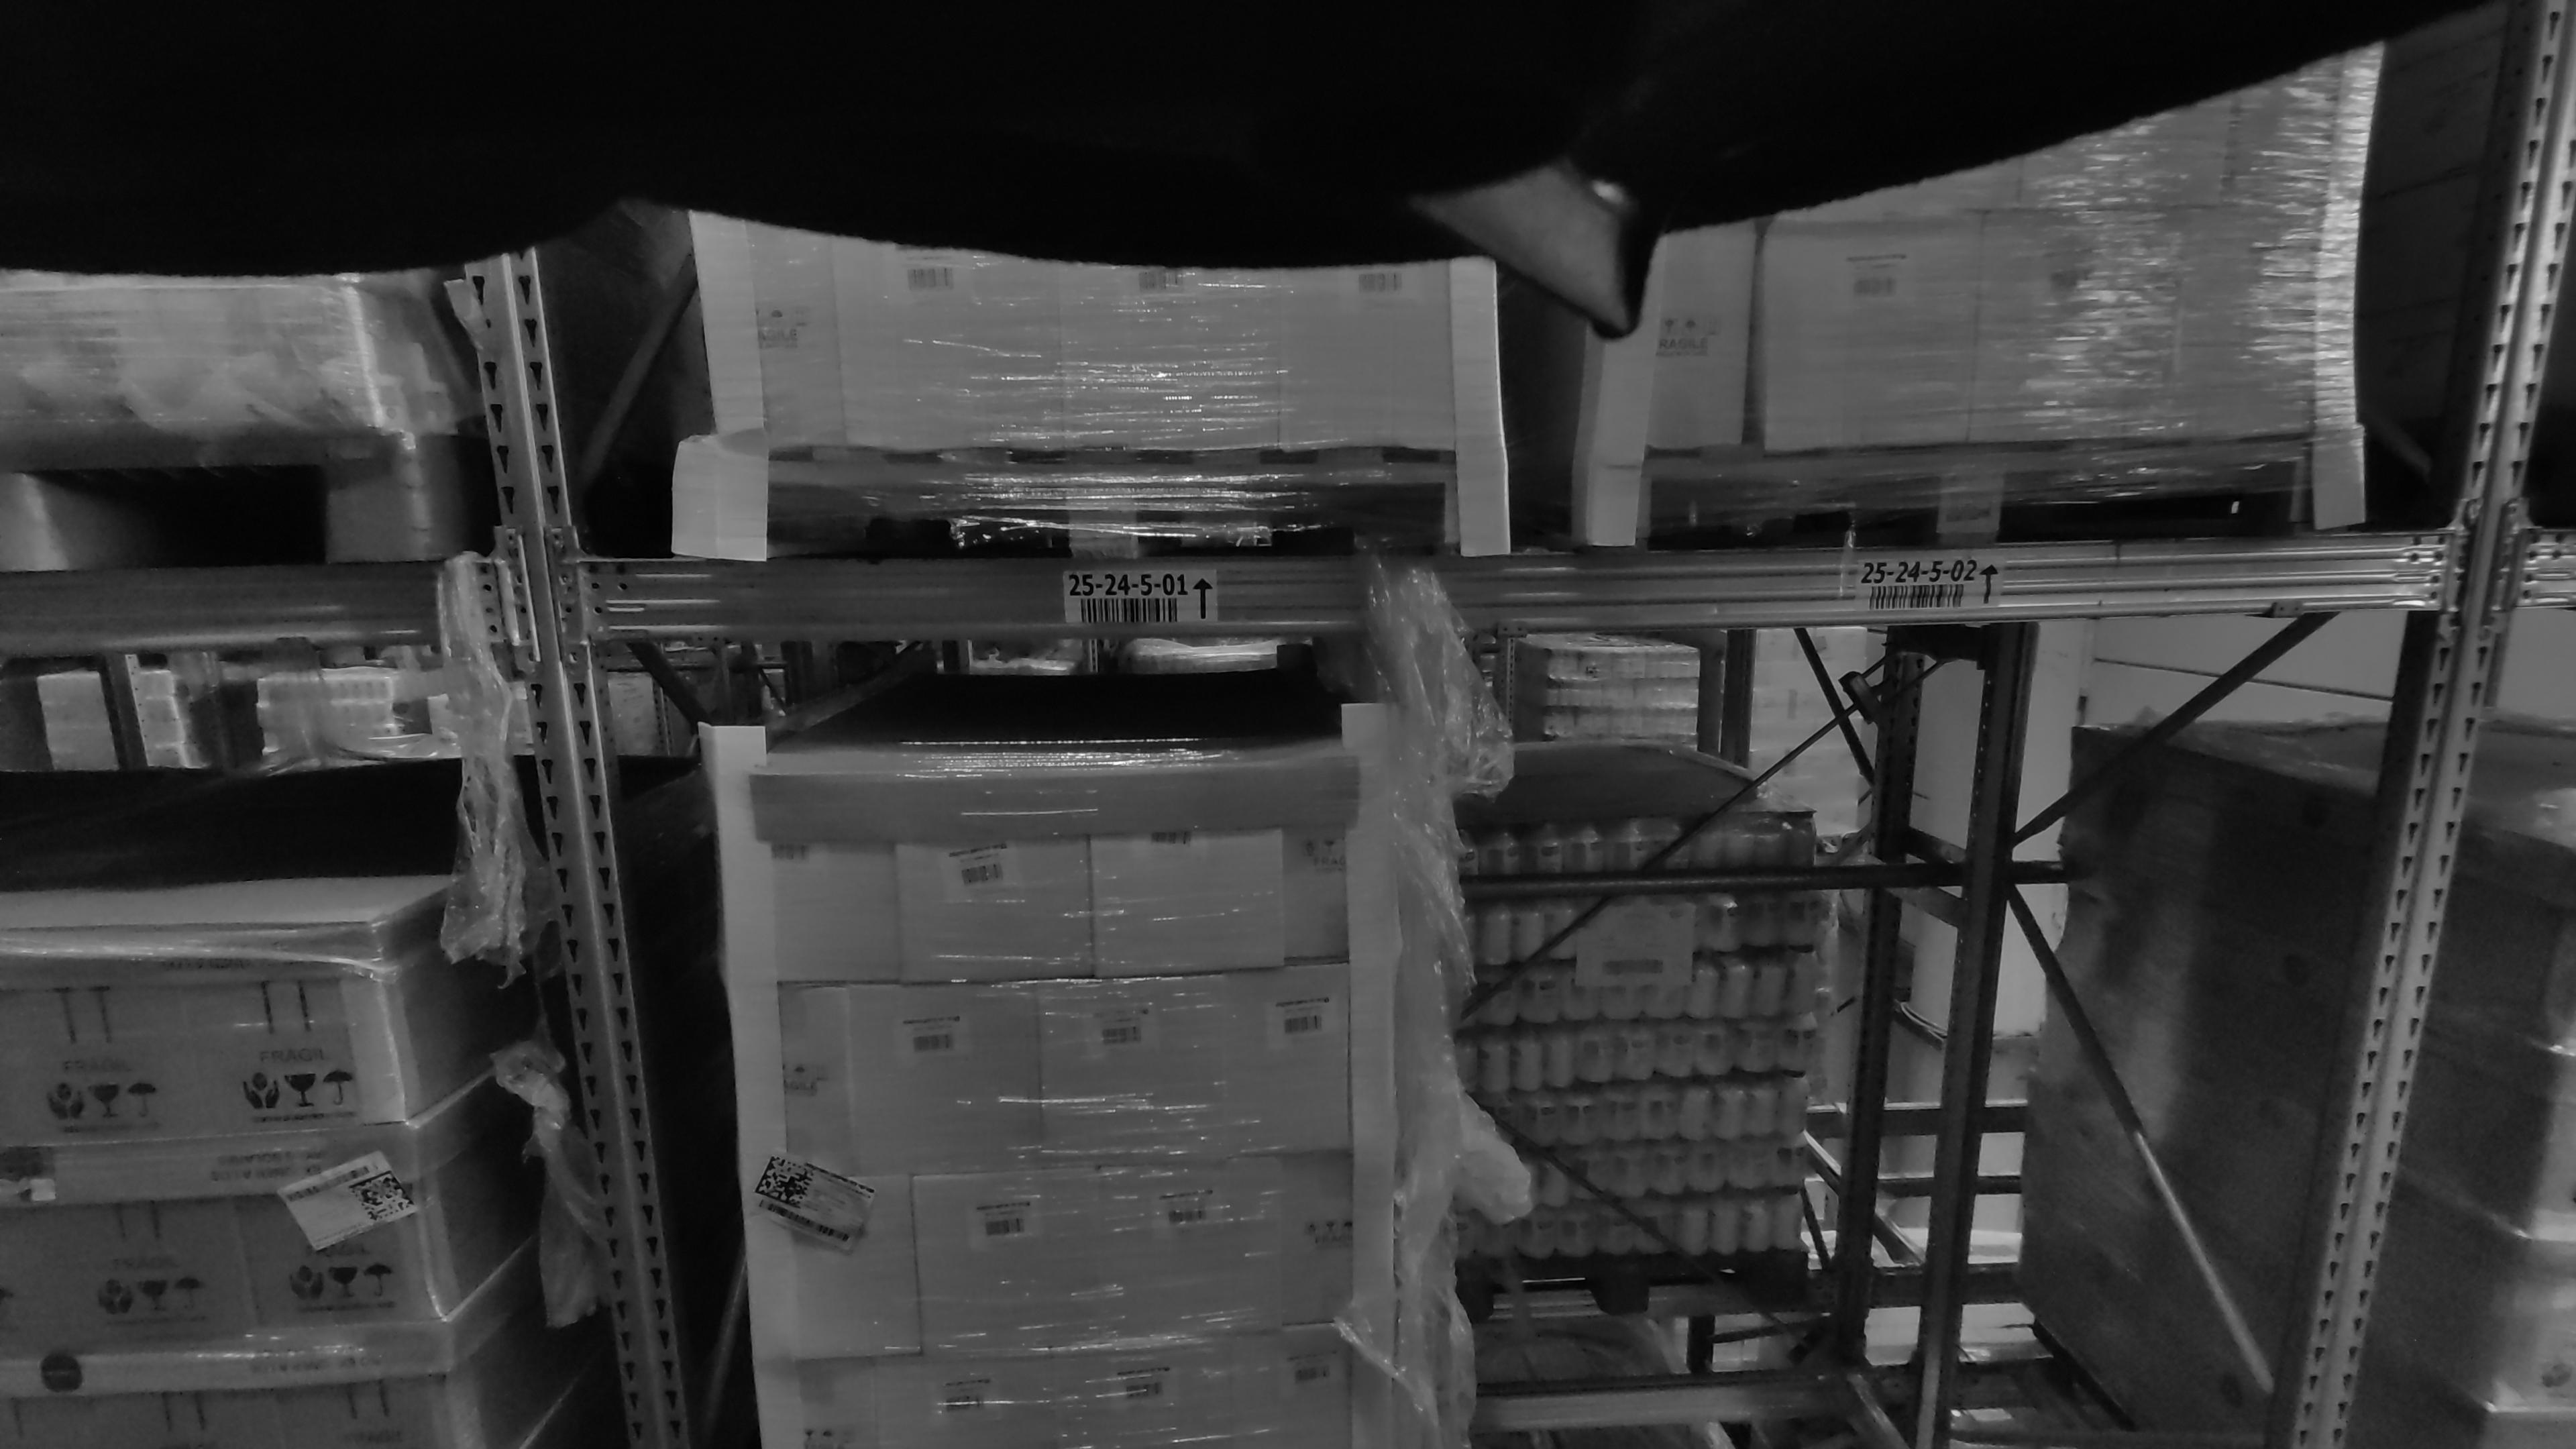empty-shelf: (1557, 628, 2006, 1449)
